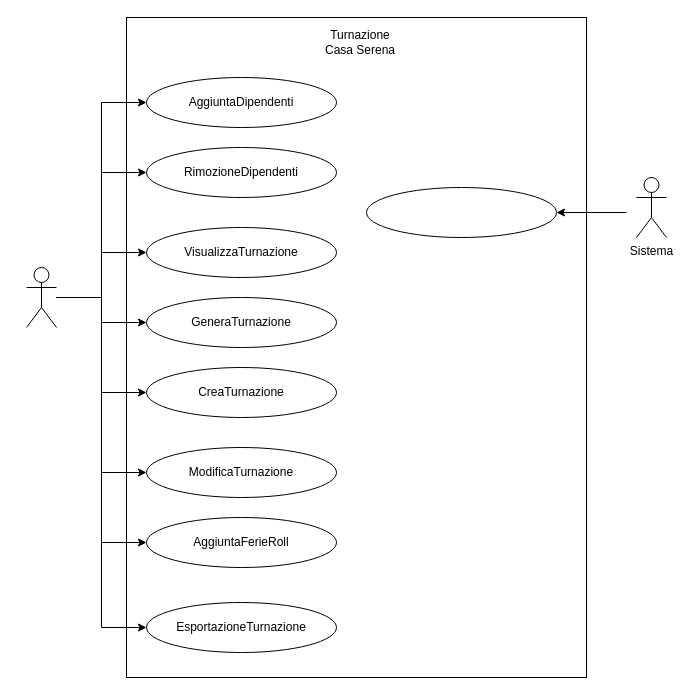
Image size: 690x695. Some labels were removed from this diagram. The centre of each missing label's shape, as x and y in pixels:
AggiuntaFerieMaturate: (x=461, y=212)
Dirigente: (x=41, y=297)
